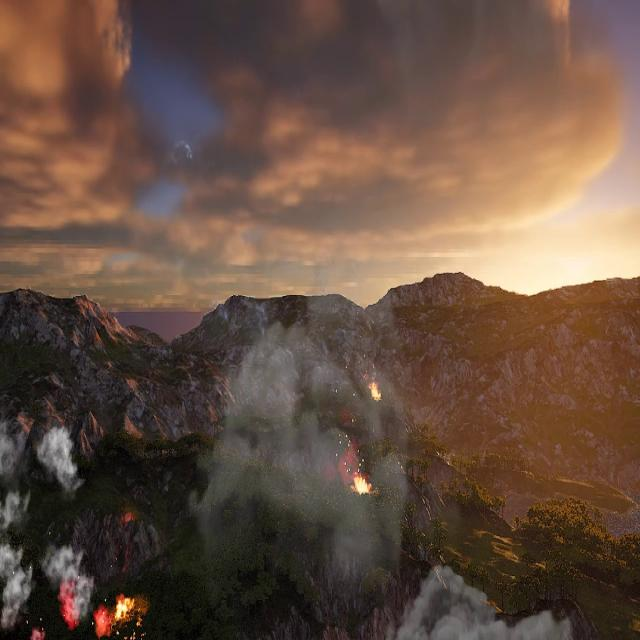fire: (92, 594, 136, 638), (354, 474, 372, 499), (368, 374, 382, 400)
smoke: (189, 302, 409, 596), (0, 408, 98, 638), (389, 564, 585, 639)
